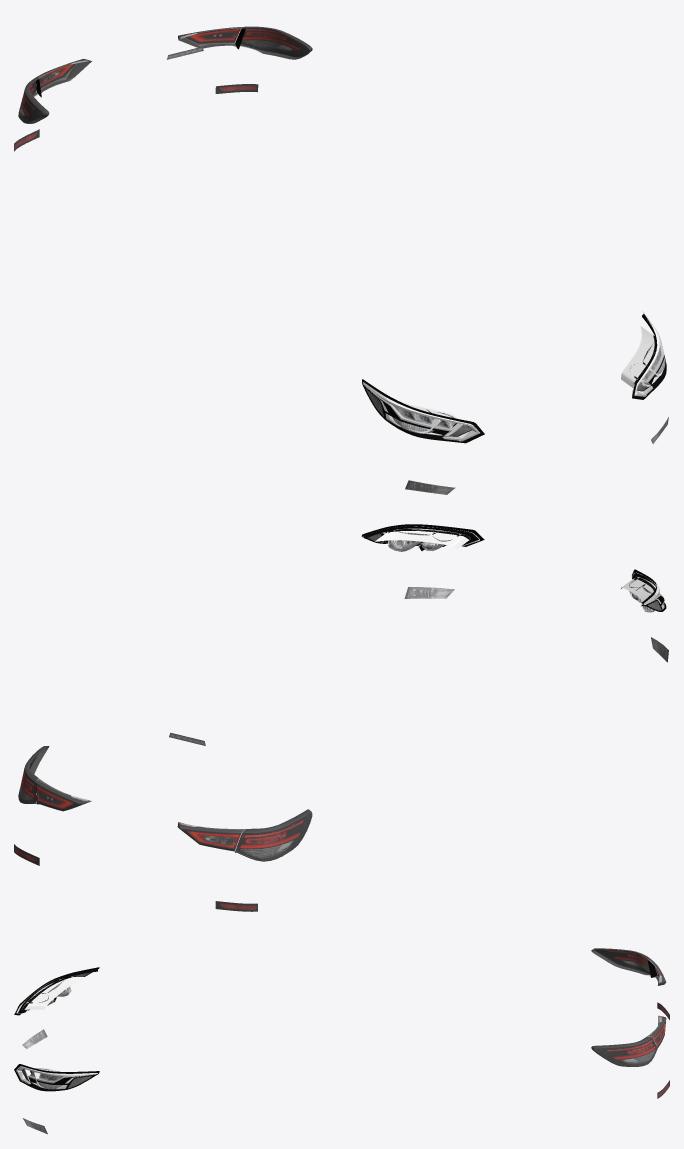
The model's file is luz_on.glb.
3 renders of one model, top to bottom at view 1: azimuth 30°, elevation 25°; view 2: azimuth 150°, elevation 25°; view 3: azimuth 270°, elevation 25°, orthographic. The views are drawn at different scales.
Parts seen in each view (by area): view 1: wudeng, weideng_c, polySurface890.001, polySurface18, polySurface461, polySurface890; view 2: wudeng, weideng_c, polySurface890.001, sentra14_model_21:light:Sylphy_head_light_02:sentra14_model_; view 3: wudeng, polySurface890, polySurface904, polySurface904.001, polySurface890.001, weideng_c.
Boxes of the visible parts, <box> form: wudeng: <box>14,26,668,494</box>; weideng_c: <box>36,27,244,92</box>; polySurface890.001: <box>621,317,662,396</box>; polySurface18: <box>362,379,484,443</box>; polySurface461: <box>362,382,479,440</box>; polySurface890: <box>366,387,479,441</box>; wudeng: <box>14,587,668,911</box>; weideng_c: <box>36,779,244,851</box>; polySurface890.001: <box>363,526,479,549</box>; sentra14_model_21:light:Sylphy_head_light_02:sentra14_model_: <box>361,524,484,546</box>; wudeng: <box>22,948,669,1134</box>; polySurface890: <box>16,976,90,1013</box>; polySurface904: <box>14,967,99,1015</box>; polySurface904.001: <box>14,1064,99,1091</box>; polySurface890.001: <box>16,1066,97,1089</box>; weideng_c: <box>648,959,666,1048</box>.
Size of the model in its own units: 1.8 by 0.9285 by 4.74.
7 materials, 1 textured.
